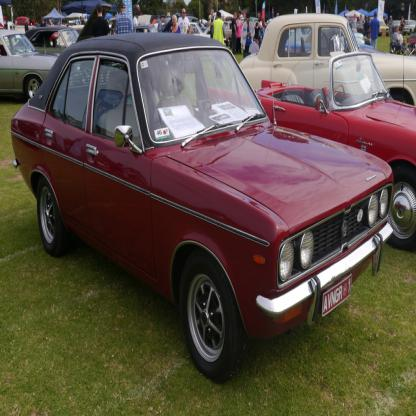Car: (0, 12, 416, 384)
